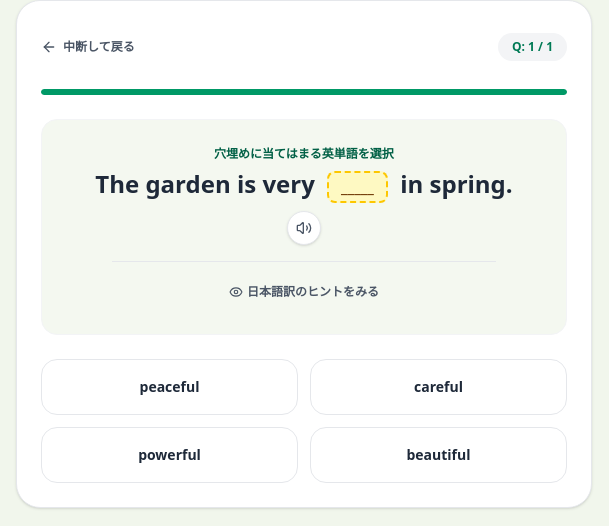
it: 出題 › 和訳のヒントを押すと出る
The width and height of the screenshot is (609, 526).
Click the button "日本語訳のヒントをみる".
click(304, 292)  # box [221,270,387,314]
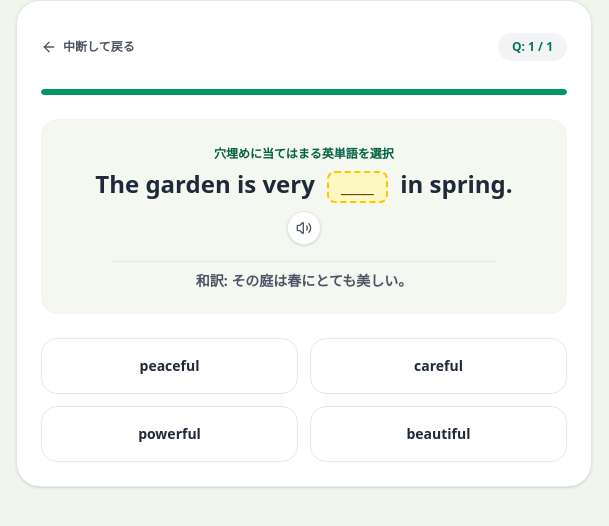
Check: the text "和訳: その庭は春にとても美しい。" is shown, box [196,271,412,290]
